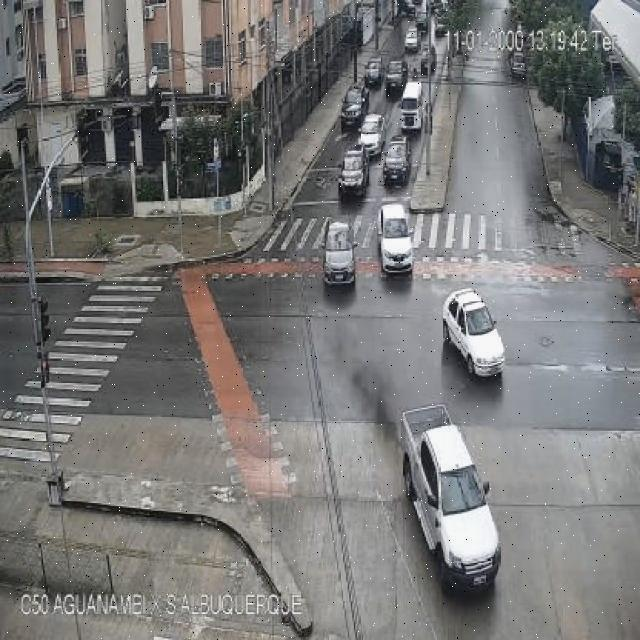Car: (442, 288, 506, 378), (378, 204, 414, 276), (322, 222, 357, 287), (337, 143, 371, 196), (381, 138, 410, 185), (340, 84, 369, 129), (359, 114, 386, 158), (385, 60, 409, 94), (364, 58, 385, 88), (510, 50, 528, 80), (420, 45, 435, 74), (404, 27, 419, 53), (415, 13, 428, 34)
Truck: (399, 404, 501, 588)
Van: (399, 81, 424, 132)
